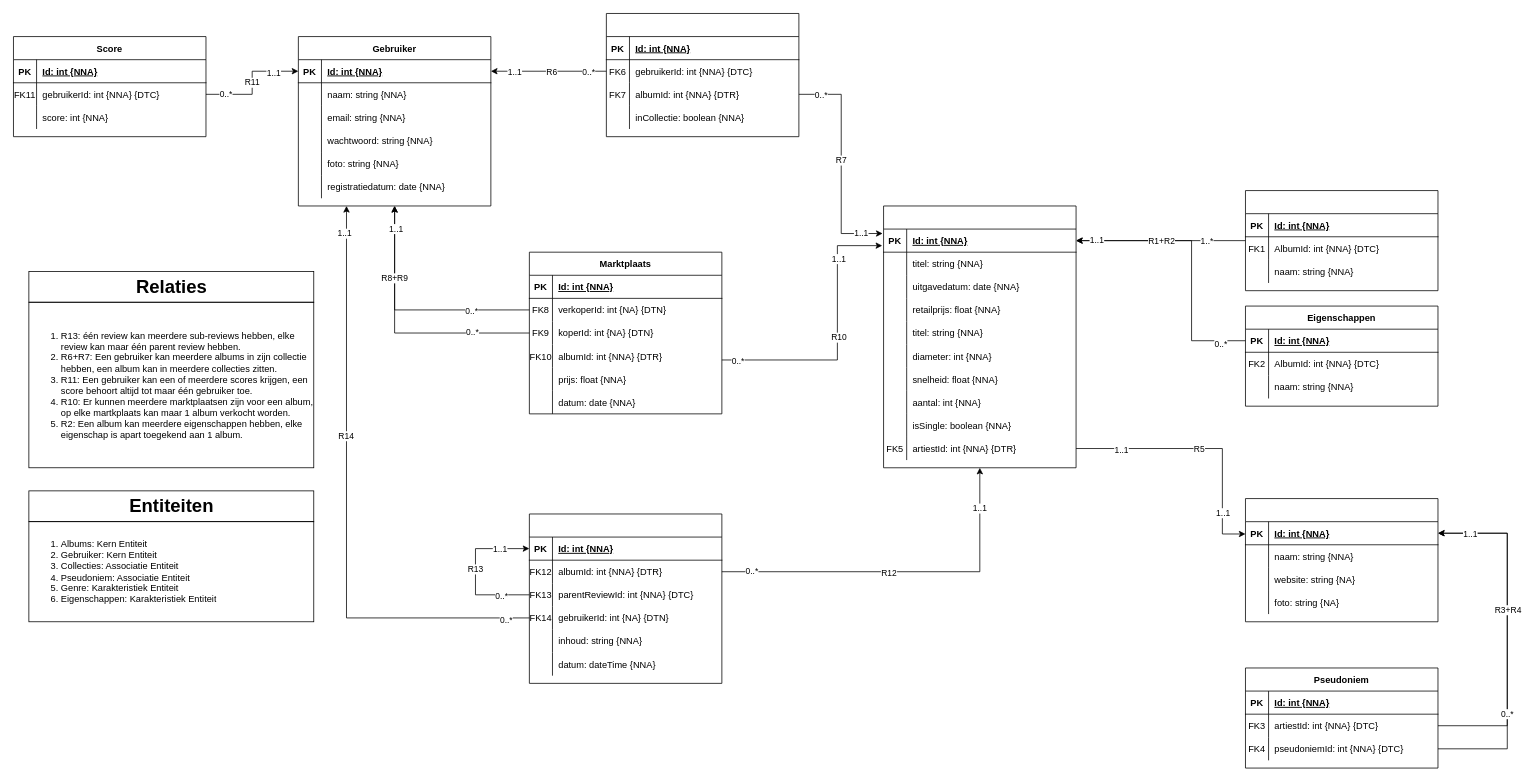
This 1535x782 diagram has some shape labels left out. Here are the shapes that lost their labels. From the top down, the box of each, then its label:
(606, 13, 799, 137): Collecties
(1245, 190, 1438, 291): Genre
(883, 205, 1076, 468): Albums
(1245, 498, 1438, 622): Artiest
(529, 513, 722, 683): Reviews
